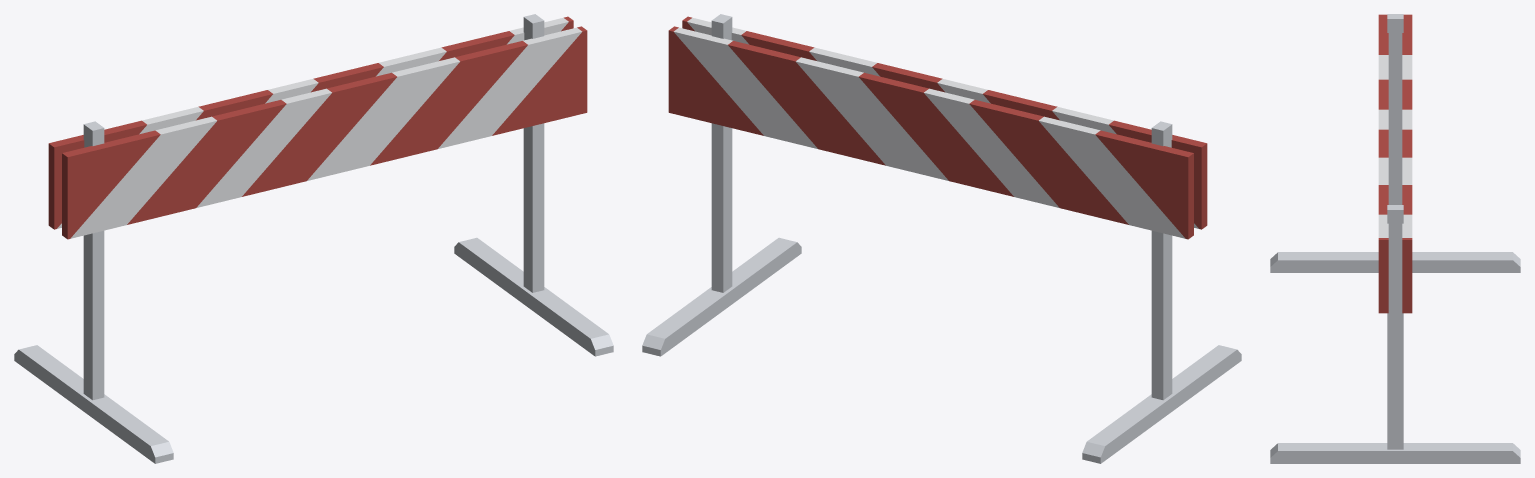
File: Wood_Road_Block_Medium_008.glb
3 renders of one model, left to right at view 1: azimuth 30°, elevation 25°; view 2: azimuth 150°, elevation 25°; view 3: azimuth 270°, elevation 25°, orthographic. The views are drawn at different scales.
Visible parts, largest first — view 1: Wood Road Block Medium.008; view 2: Wood Road Block Medium.008; view 3: Wood Road Block Medium.008.
Boxes of the visible parts, <box> form: Wood Road Block Medium.008: <box>14,14,613,463</box>; Wood Road Block Medium.008: <box>642,14,1241,463</box>; Wood Road Block Medium.008: <box>1270,14,1520,463</box>.
Bounding box in the file's own units: 13.22 × 6.91 × 6.21.
Materials: 1 (1 with a texture image).
